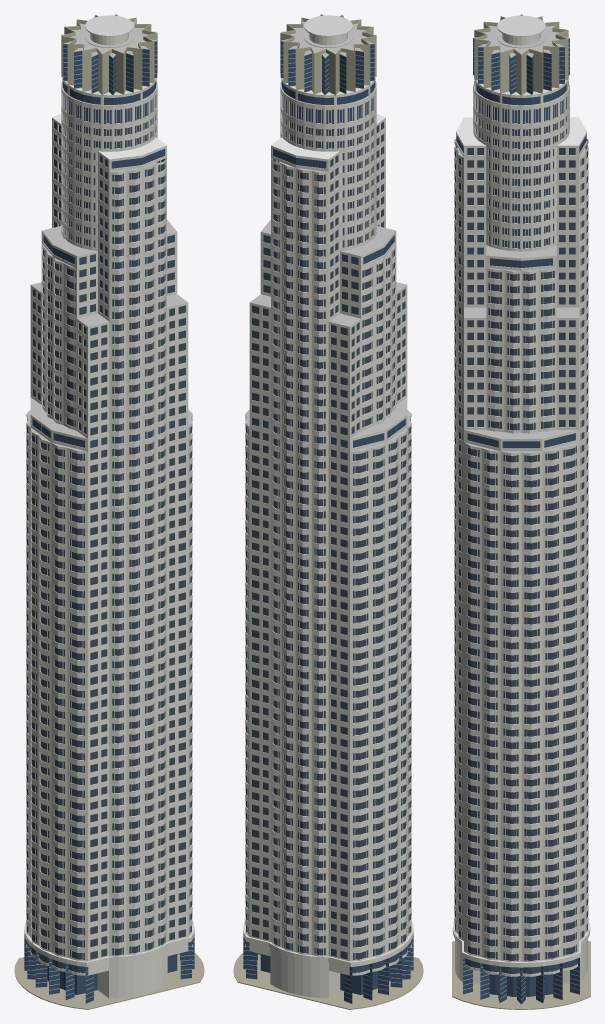
The model's file is us_tower - Kopie.fbx.
3 views of the same model, side by side, from view 1: azimuth 30°, elevation 25°; view 2: azimuth 150°, elevation 25°; view 3: azimuth 270°, elevation 25° (orthographic).
Parts seen in each view (by area): view 1: Empty_Mesh; view 2: Empty_Mesh; view 3: Empty_Mesh.
Part boxes in pixels (x1,y1,x2,y2): Empty_Mesh: (14, 14, 204, 1009); Empty_Mesh: (233, 14, 423, 1009); Empty_Mesh: (452, 14, 590, 1009).
Bounding box in the file's own units: 5801 × 31820 × 4237.
